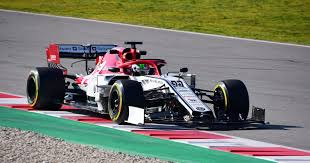FormulaOneCar: (22, 34, 271, 131)
